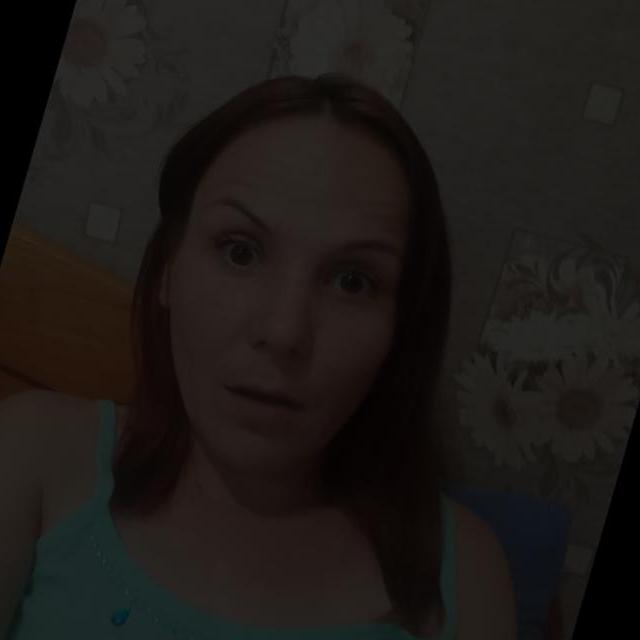Surprised: (142, 113, 426, 485)
